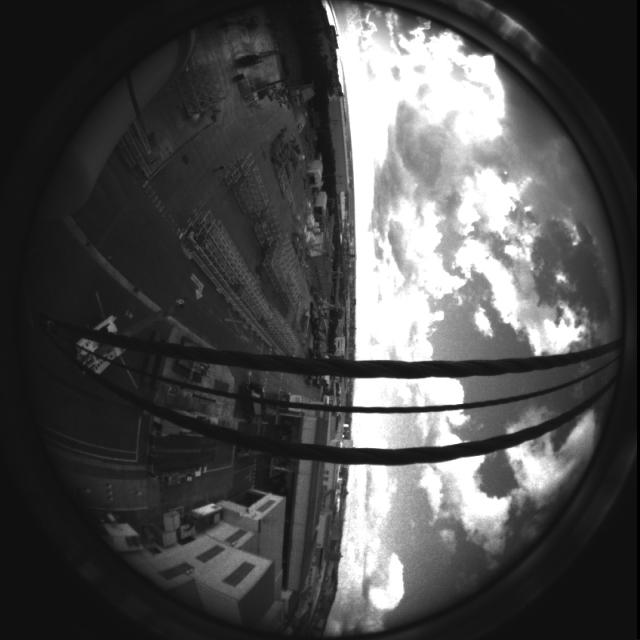rope: (0, 294, 640, 476)
sky: (324, 2, 621, 637)
